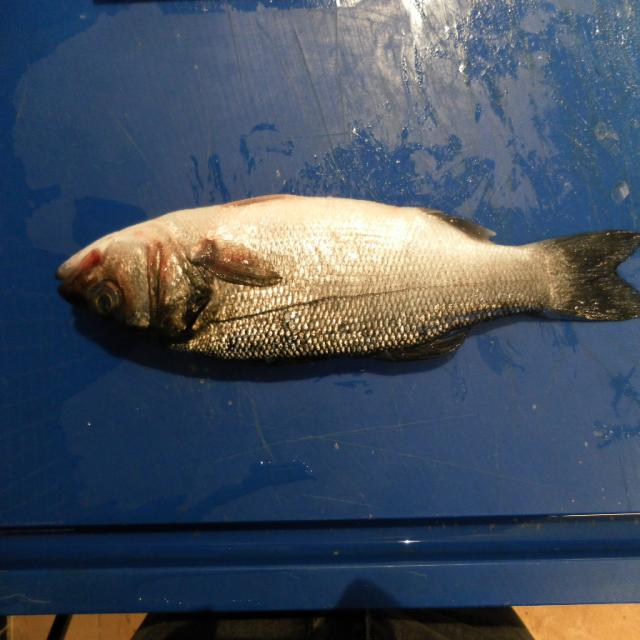Sea-Bass-levrek-: (55, 193, 640, 366)
